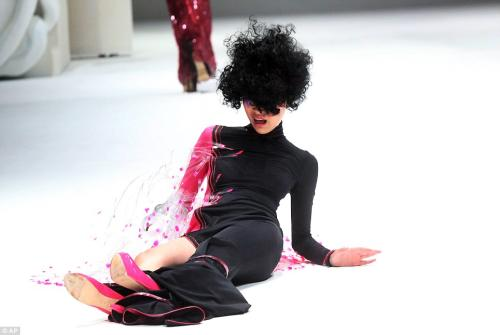fall: (47, 4, 395, 331)
